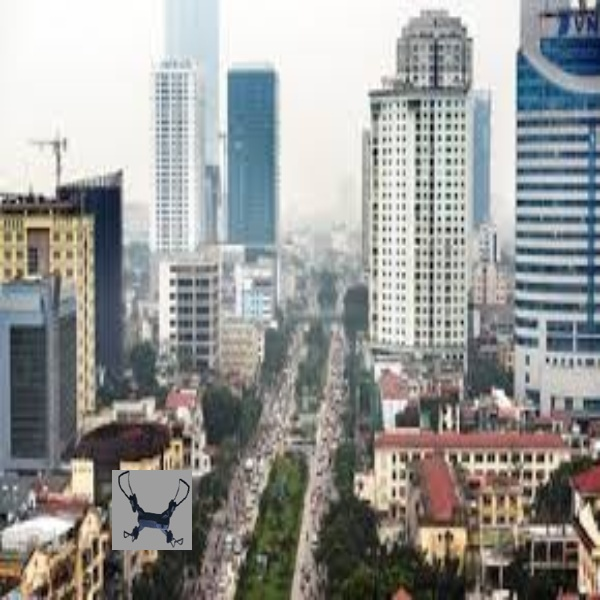drone: (111, 467, 194, 551)
